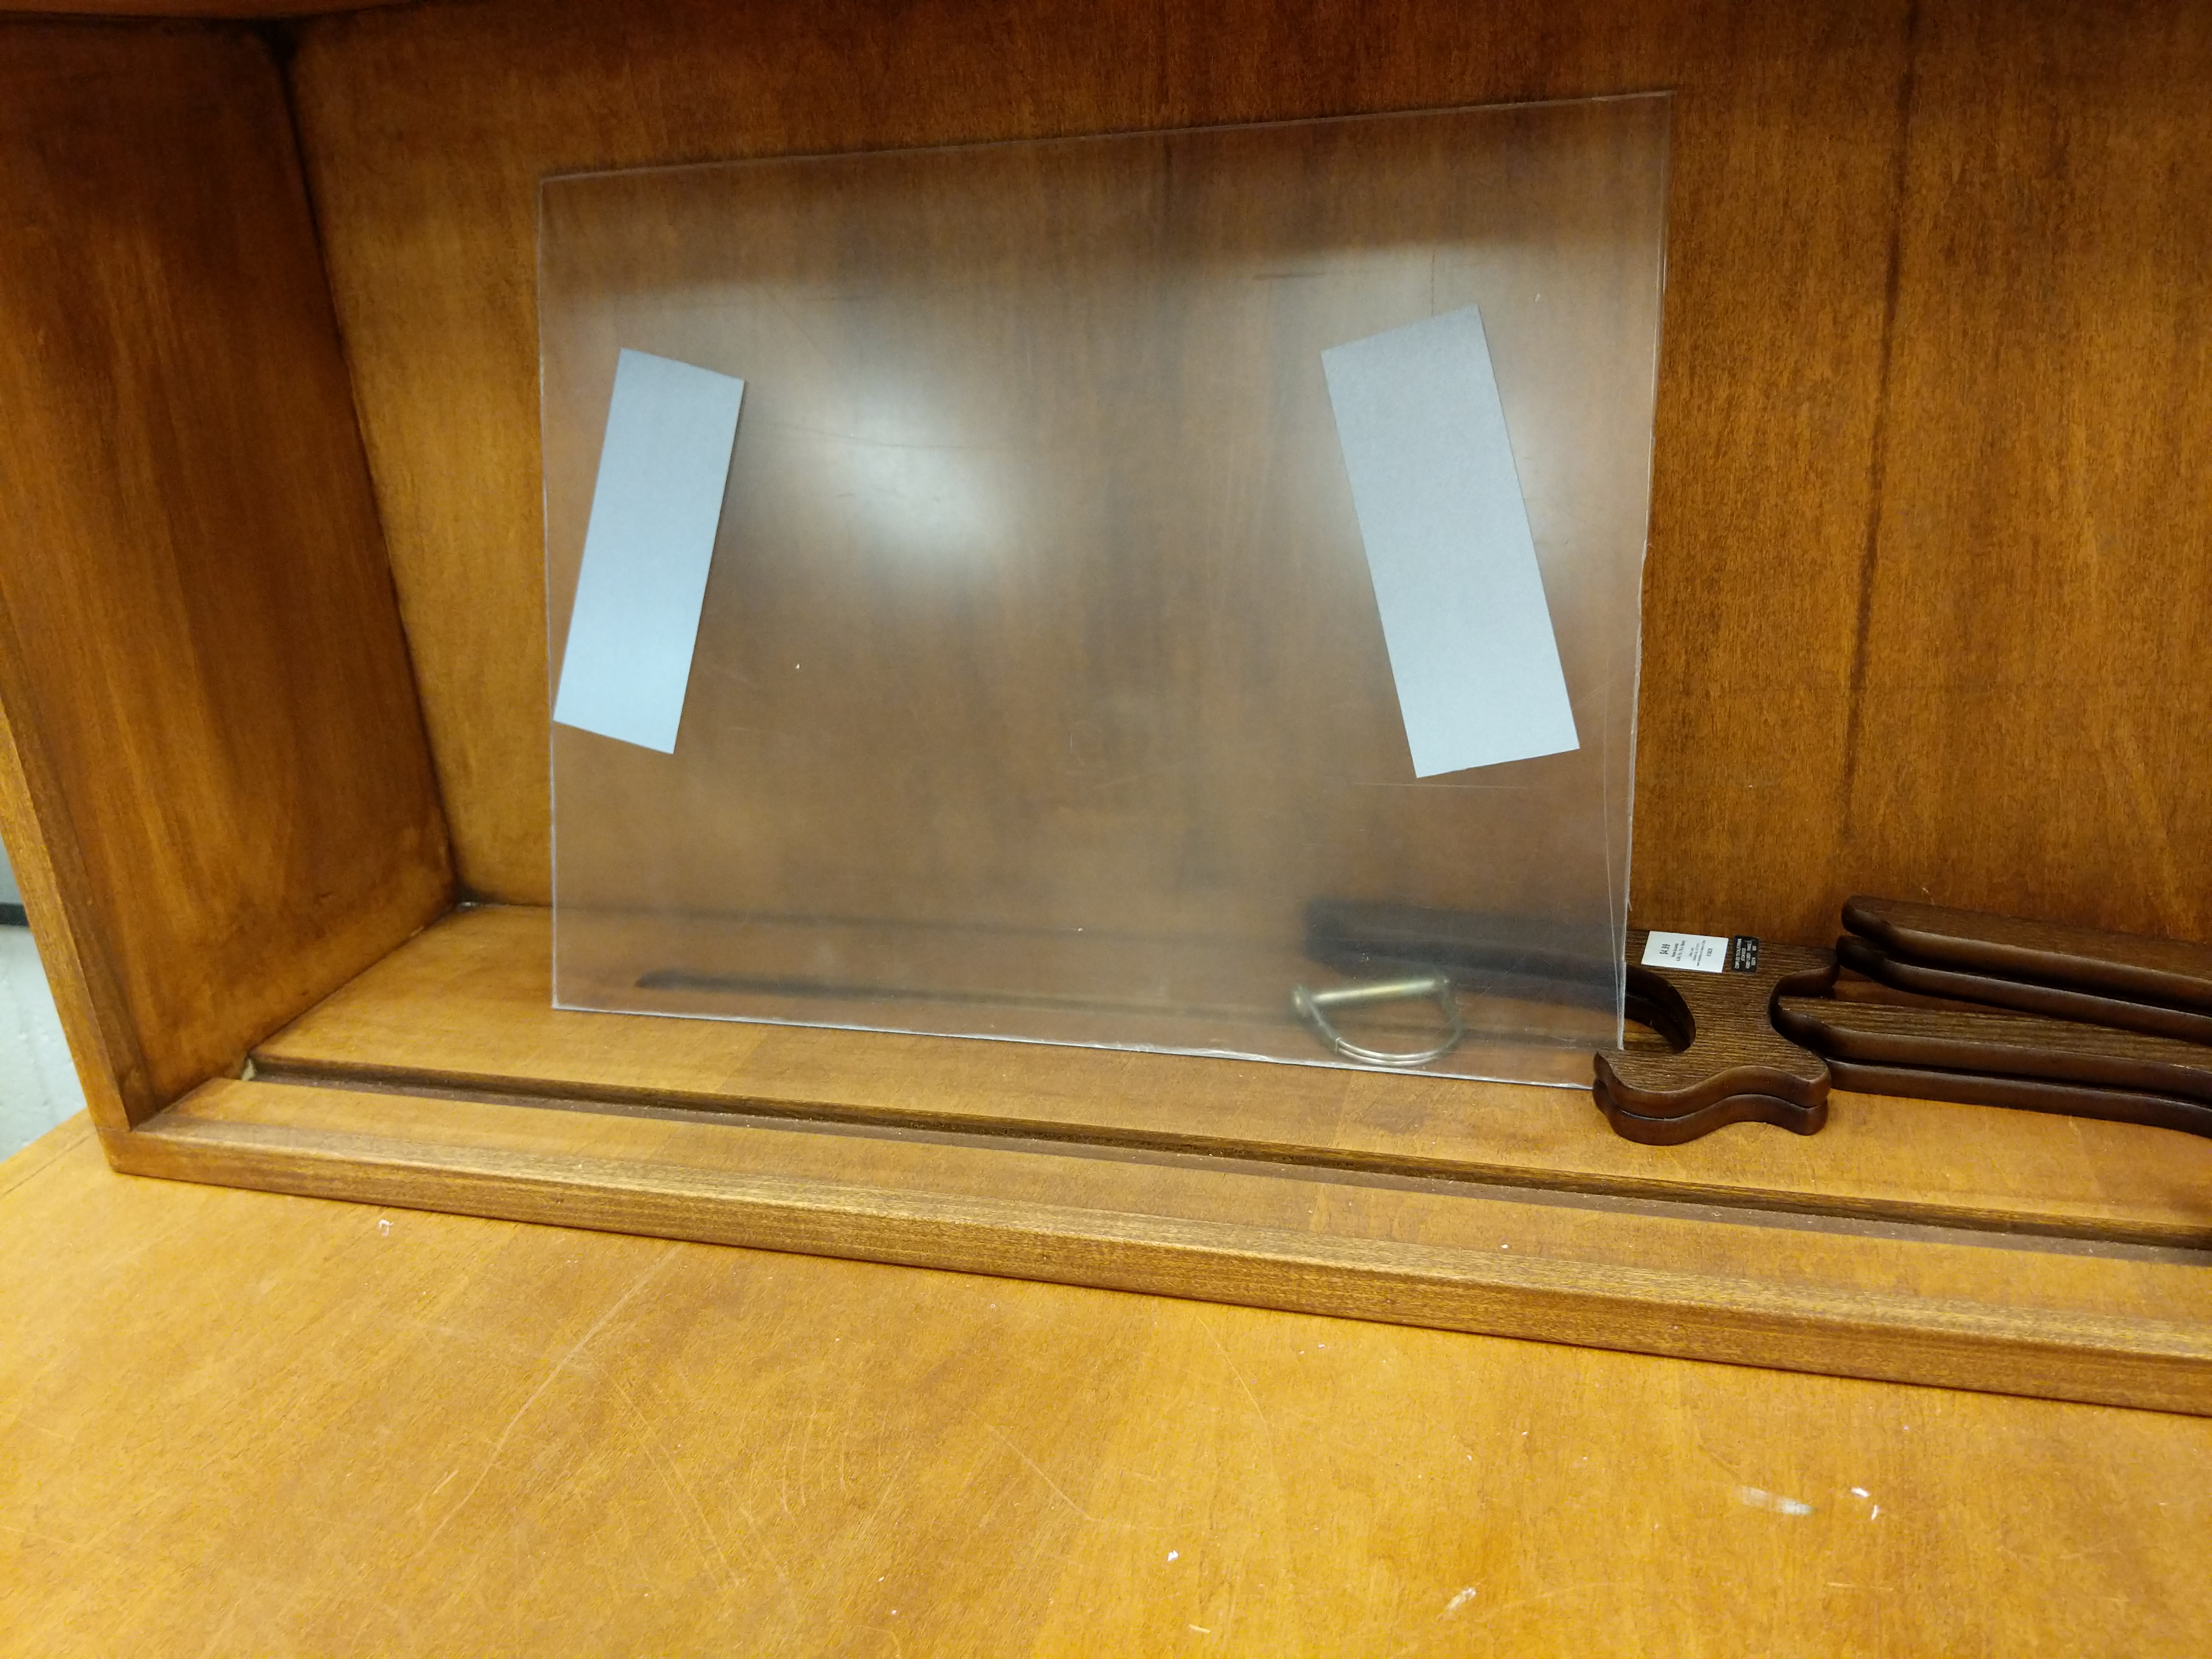vision_target: (549, 295, 1594, 796)
